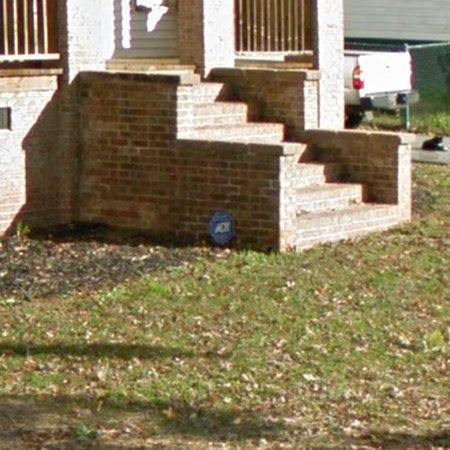stairs: (177, 82, 399, 251)
